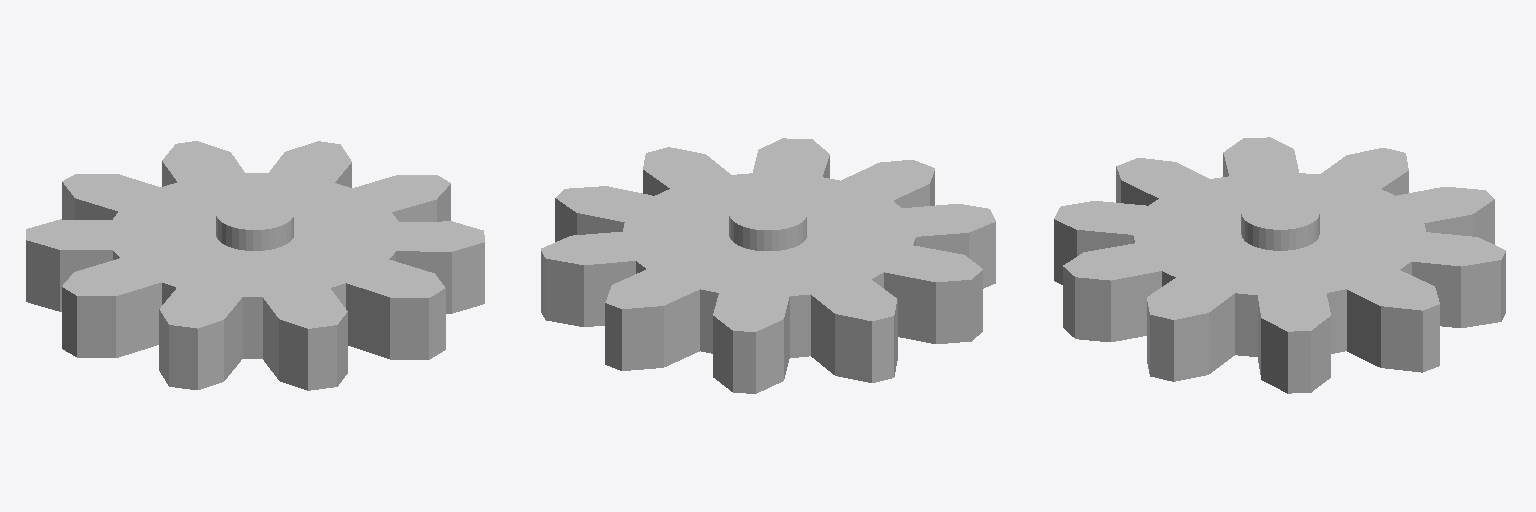
File: gear2.obj
3 views of the same model, side by side, from view 1: azimuth 30°, elevation 25°; view 2: azimuth 150°, elevation 25°; view 3: azimuth 270°, elevation 25° (orthographic).
Parts seen in each view (by area): view 1: Cylinder.003_Cylinder.004; view 2: Cylinder.003_Cylinder.004; view 3: Cylinder.003_Cylinder.004.
Part boxes in pixels (left/top/right/bottom): Cylinder.003_Cylinder.004: left=26, top=141, right=484, bottom=390; Cylinder.003_Cylinder.004: left=541, top=138, right=995, bottom=393; Cylinder.003_Cylinder.004: left=1054, top=137, right=1505, bottom=393.
Bounding box in the file's own units: 5.87 × 1.19 × 5.77.